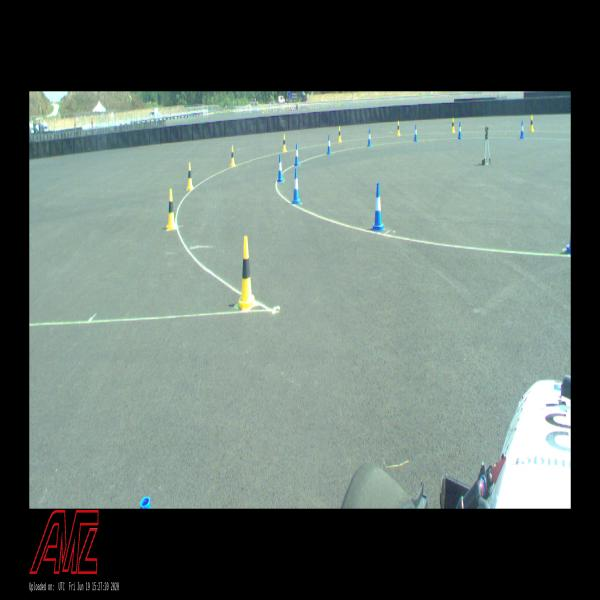blue_cone: (371, 183, 385, 232), (291, 168, 301, 204), (277, 155, 284, 183), (294, 144, 300, 167), (326, 134, 332, 154), (367, 129, 372, 146), (520, 121, 524, 139), (458, 122, 462, 140), (414, 125, 418, 142)
yellow_cone: (237, 236, 256, 312), (166, 189, 177, 230), (186, 163, 194, 190), (230, 145, 236, 167), (282, 134, 287, 152), (337, 127, 342, 142), (530, 115, 534, 132), (451, 117, 455, 133), (397, 121, 400, 136)
